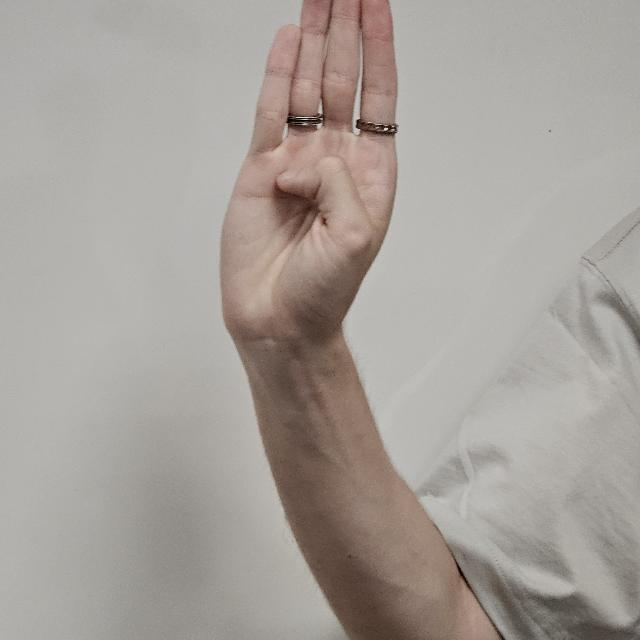Baixo: (220, 0, 400, 378)
